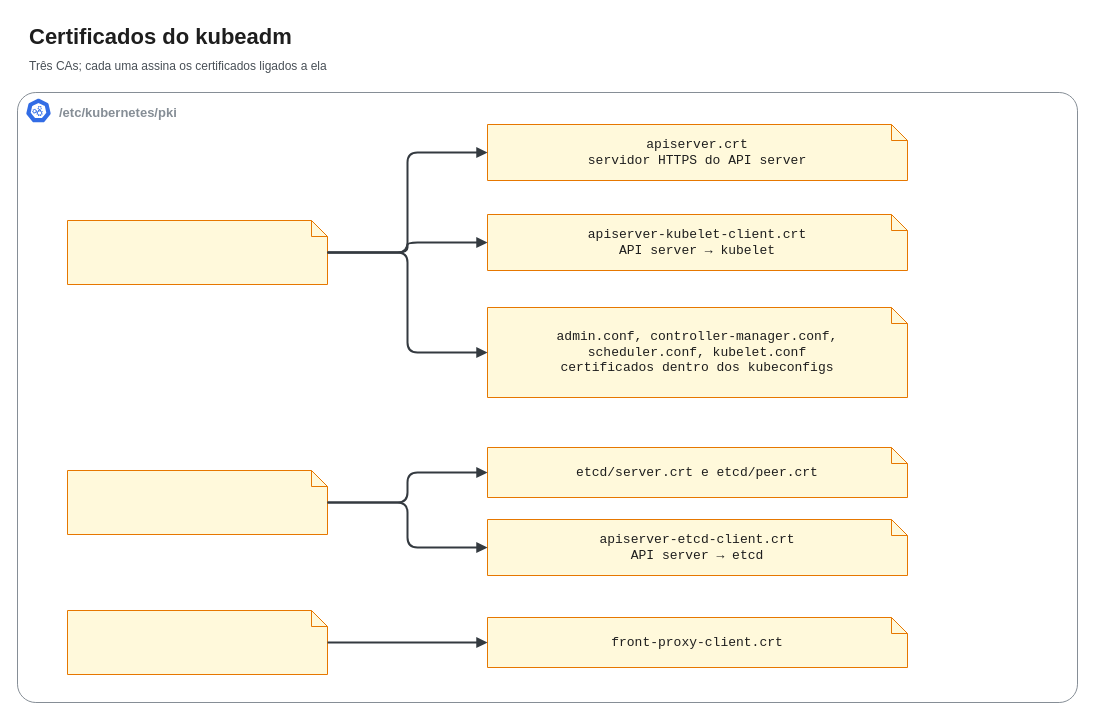
Some shapes in this 1095 by 720 pixel diagram are drawn without their labels. Each missing label, with the centre of its shape:
"ca.crt CA do cluster" goes at (x=197, y=252).
"etcd/ca.crt CA do etcd" goes at (x=197, y=502).
"front-proxy-ca.crt CA do agregador" goes at (x=197, y=642).
